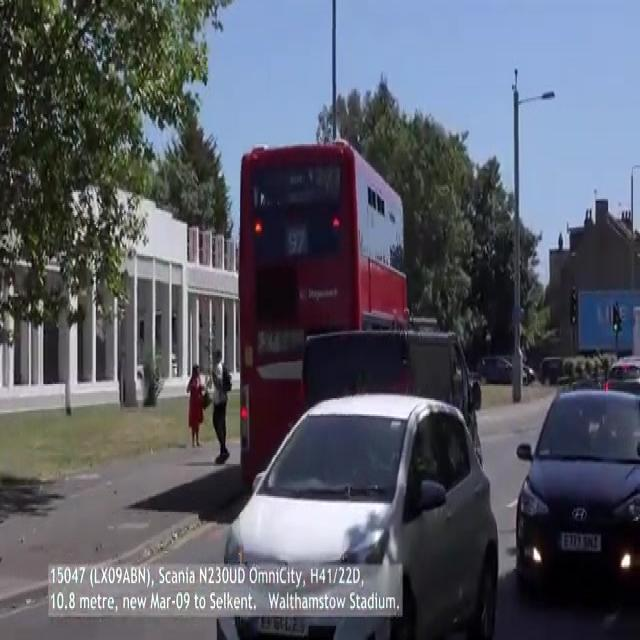bus: (236, 147, 410, 481)
